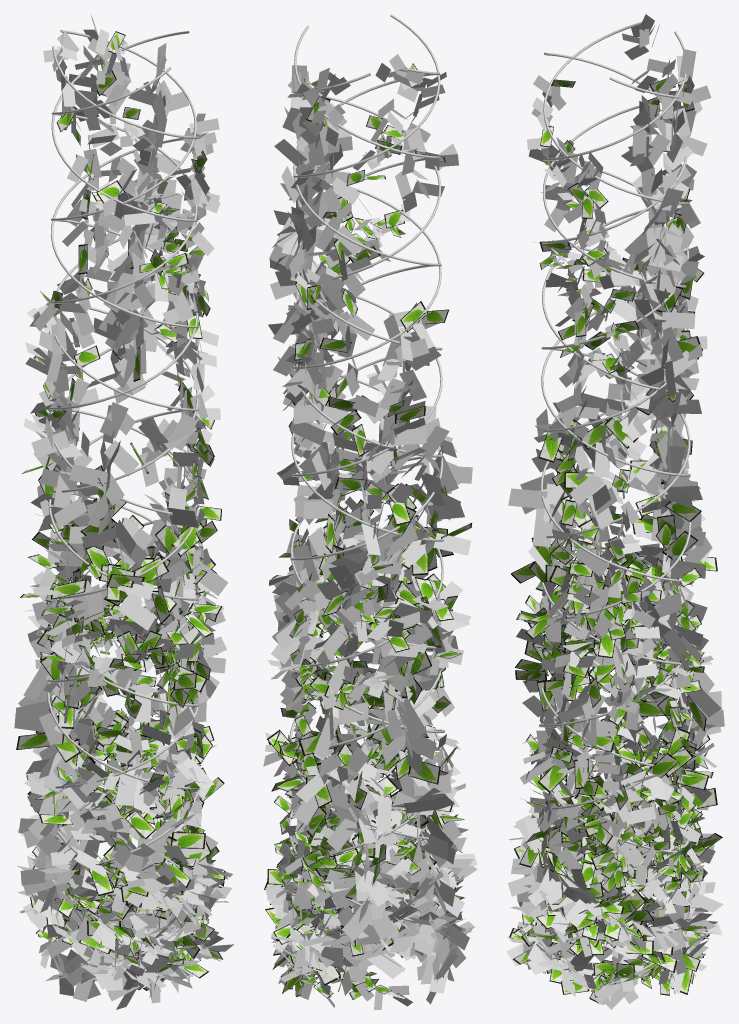
The model's file is Column_Plants.fbx.
The picture shows the model from 3 angles, left to right: view 1: azimuth 30°, elevation 25°; view 2: azimuth 150°, elevation 25°; view 3: azimuth 270°, elevation 25°; orthographic projection.
Parts seen in each view (by area): view 1: Leave_3, Leave_1, Leave_6, Leave_4, Leave_5, Leave_2, Branch; view 2: Leave_6, Leave_3, Leave_1, Leave_4, Leave_2, Leave_5, Branch; view 3: Leave_3, Leave_6, Leave_1, Leave_5, Leave_4, Leave_2, Branch.
Part boxes in pixels (x1,y1,x2,y2): Leave_3: (16,31,228,990); Leave_1: (17,29,225,1009); Leave_6: (16,14,228,999); Leave_4: (14,31,233,1003); Leave_5: (25,52,232,988); Leave_2: (32,70,225,989); Branch: (47,30,200,978); Leave_6: (266,67,473,1009); Leave_3: (264,63,471,999); Leave_1: (265,74,477,1004); Leave_4: (272,54,477,1006); Leave_2: (265,77,471,1007); Leave_5: (263,71,470,985); Branch: (288,14,445,997); Leave_3: (509,78,722,1003); Leave_6: (507,26,724,1003); Leave_1: (507,44,722,1005); Leave_5: (508,97,723,1009); Leave_4: (506,14,717,1001); Leave_2: (510,86,717,1003); Branch: (539,22,693,991).
Bounding box in the file's own units: 89.78 × 431 × 90.38.
1 material, 1 textured.
